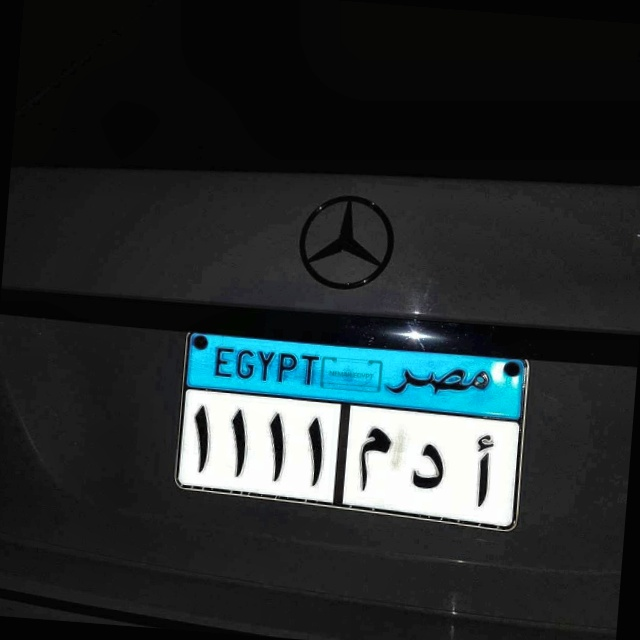License Plate: (167, 324, 536, 541)
